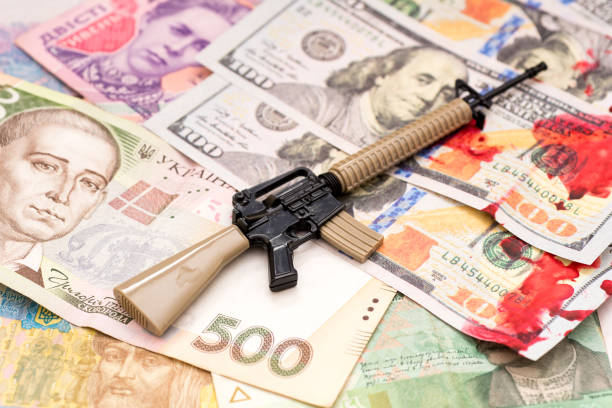blood: (424, 34, 612, 356)
gun: (112, 61, 551, 335)
